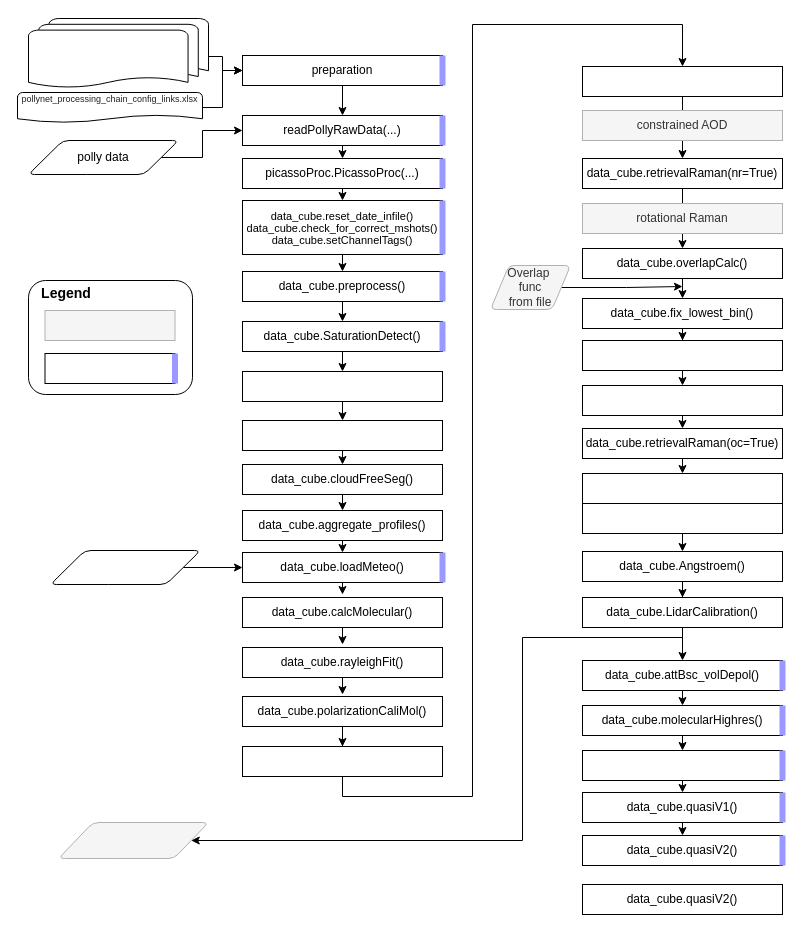
The diagram is 804 pixels wide and 932 high, and some of its shapes have lost their labels. The shapes that lost their labels are listed below. From the top down, each one's centre as x and y in pixels, then its label:
the point at 118,53: pollynet_processing_chain_config.json polly_global_config.json
the point at 682,81: data_cube.retrievalKlett(nr=True)
the point at 109,325: not implemented
the point at 109,368: only highres (under development)
the point at 682,355: data_cube.overlapCor()
the point at 342,386: data_cube.polarizationCaliD90()
the point at 682,400: data_cube.retrievalKlett(oc=True)
the point at 342,435: data_cube.cloudScreen()
the point at 682,488: data_cube.calcDepol()
the point at 682,518: depolarization.voldepol_cldFreeGrps() depolarization.pardepol_cldFreeGrps()
the point at 125,567: Meteo Data Cloudnet format
the point at 342,761: data_cube.transCor()
the point at 682,765: data_cube.estQualityMask()
the point at 133,840: Calibration constants database
